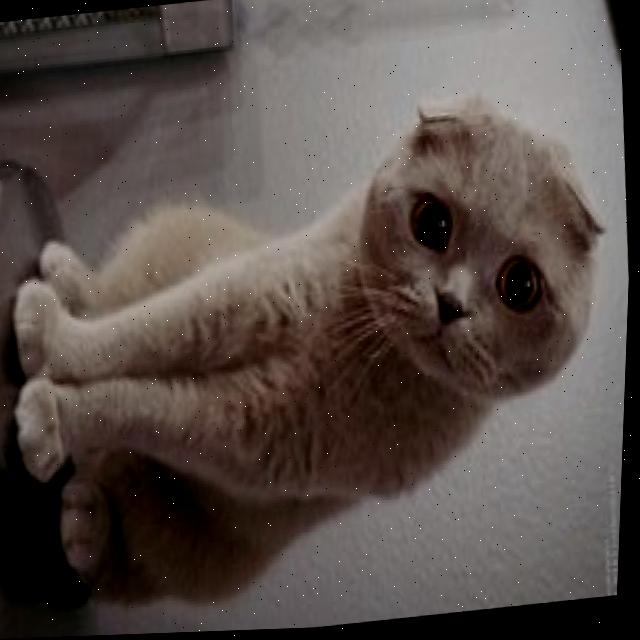Scottish Fold: (0, 68, 637, 632)
